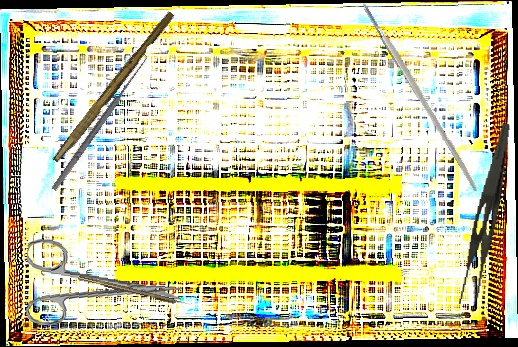Dressing Forceps: (455, 120, 512, 308)
Hook Surgical: (45, 50, 152, 193), (78, 275, 191, 308)
Iris Scissors: (19, 236, 187, 341)
Scalpel Handle: (360, 0, 481, 193), (52, 8, 176, 167)
